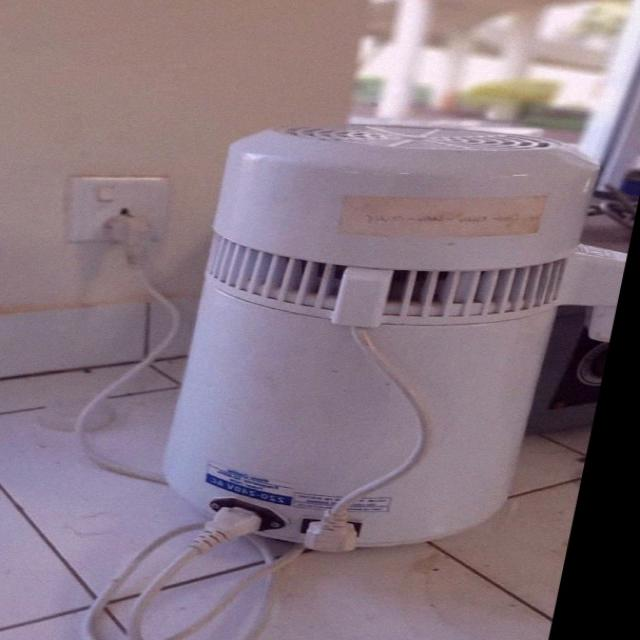Distilled Water Maker: (119, 108, 615, 572)
